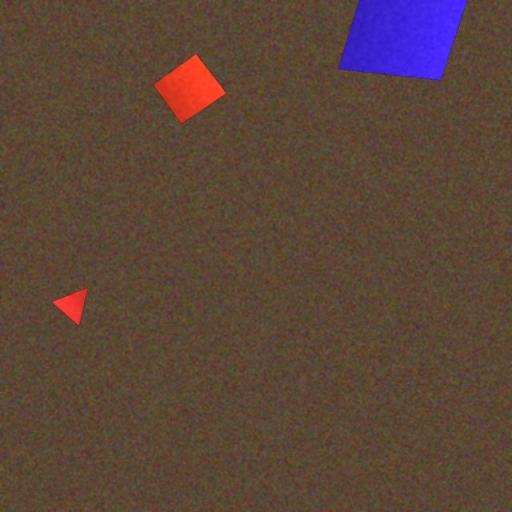BLUE_SQUARE: (338, 0, 472, 81)
RED_SQUARE: (152, 54, 227, 124)
